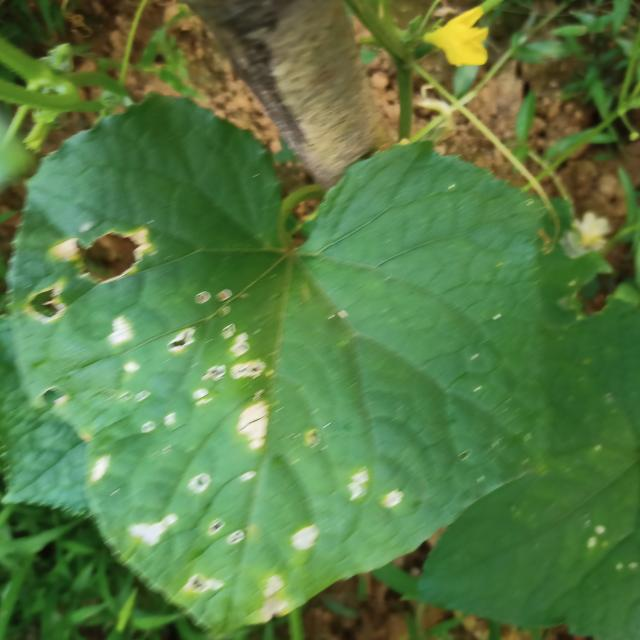disease_cucumber: (41, 225, 162, 287), (167, 326, 274, 388), (189, 471, 246, 546), (99, 314, 144, 377), (125, 504, 181, 552), (349, 466, 405, 510), (233, 393, 272, 456), (23, 282, 68, 325), (255, 574, 287, 620), (193, 286, 235, 319), (290, 521, 321, 553)
